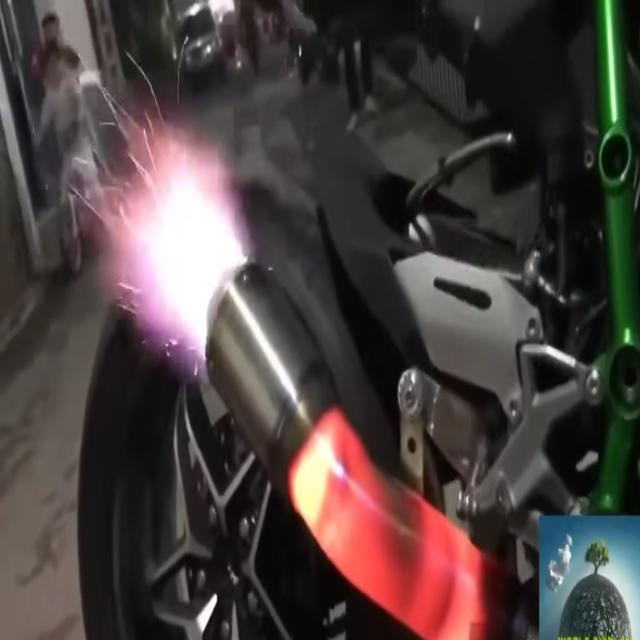fire: (99, 112, 248, 384)
